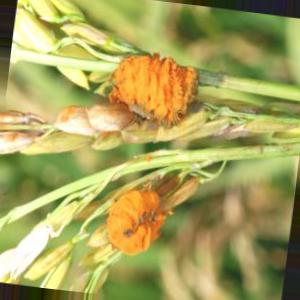False Smut: (109, 57, 202, 122), (109, 195, 167, 257)
